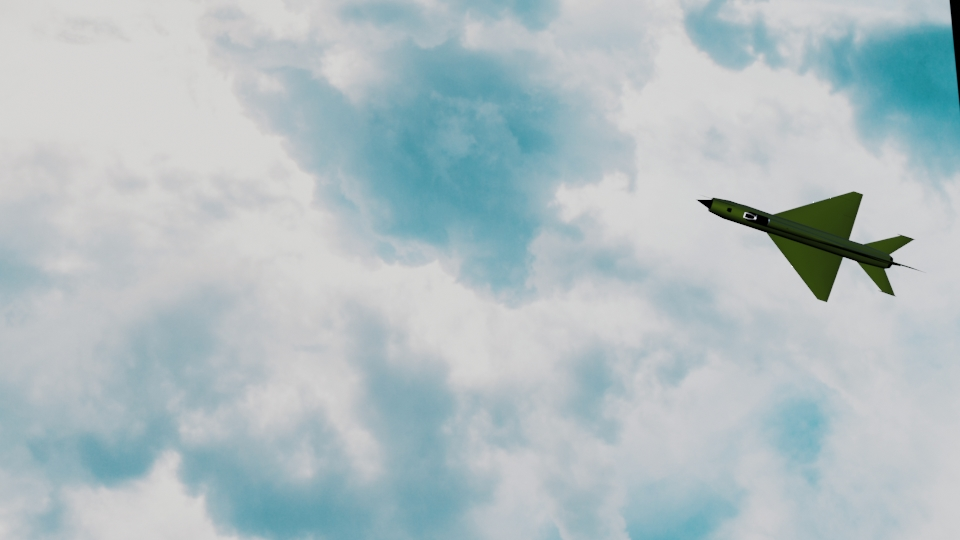plane: (698, 190, 912, 299)
